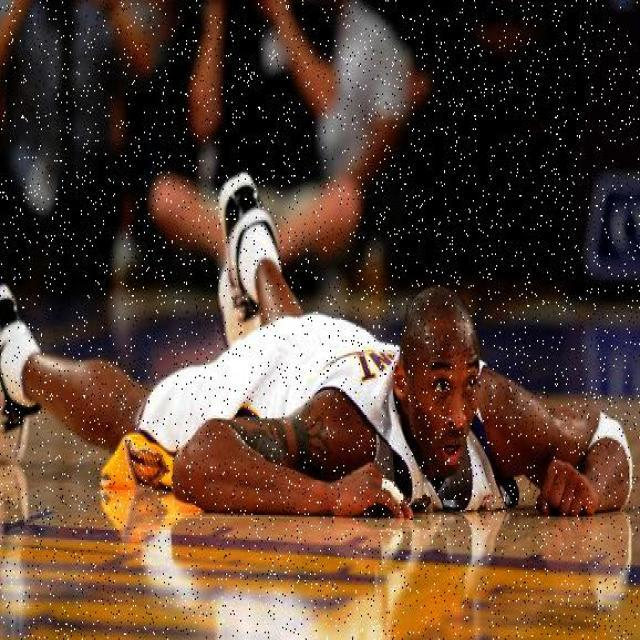fall: (21, 174, 605, 514)
